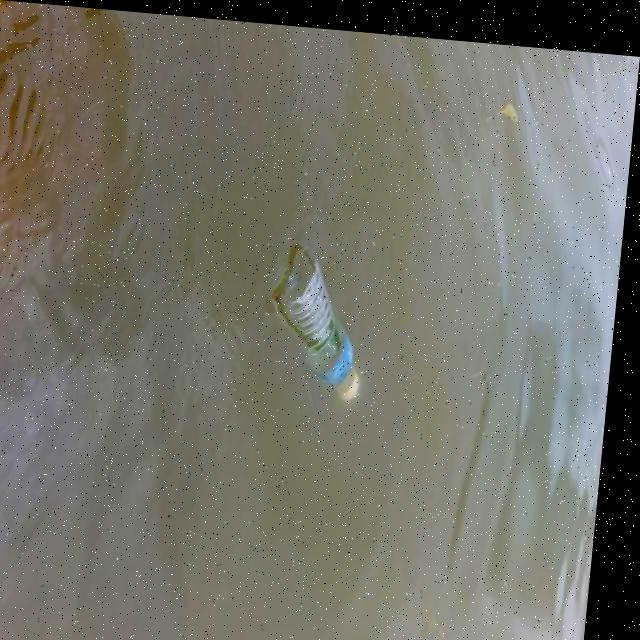waterbottle: (239, 225, 398, 423)
